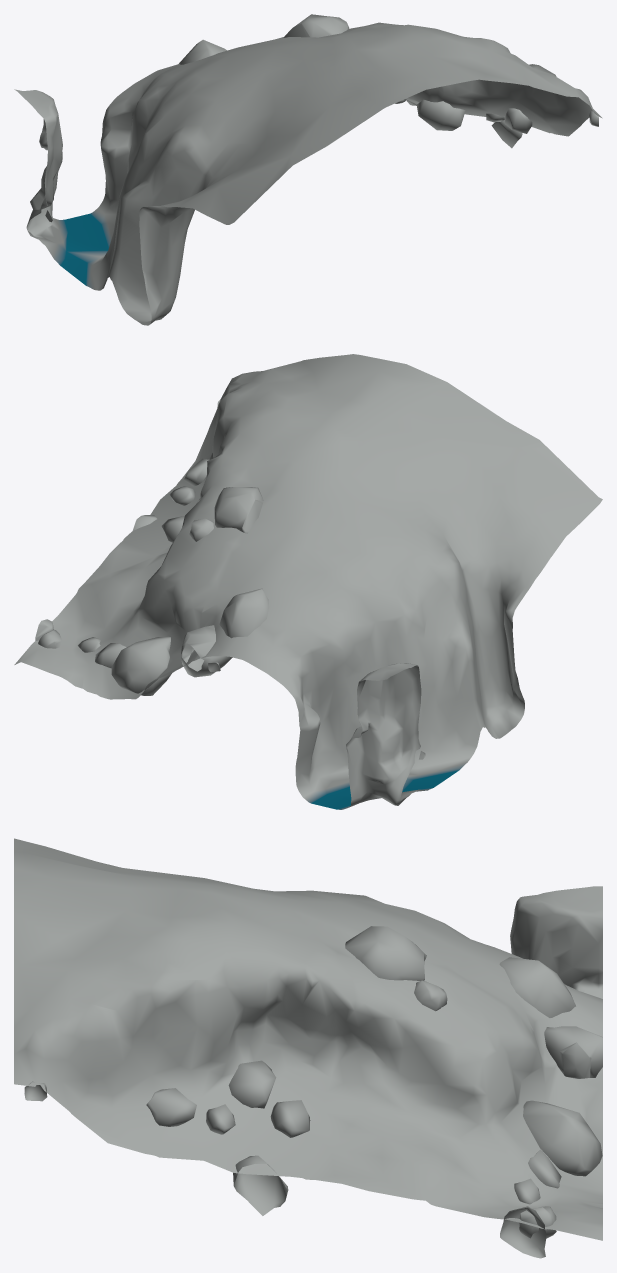
3 renders of one model, top to bottom at view 1: azimuth 30°, elevation 25°; view 2: azimuth 150°, elevation 25°; view 3: azimuth 270°, elevation 25°, orthographic. The views are drawn at different scales.
Visible parts, largest first — view 1: G:\FFXIV-MapTools\exports\s1f3\bg\ffxiv\sea_s1\fld\s1f3\bgpl (×12); view 2: G:\FFXIV-MapTools\exports\s1f3\bg\ffxiv\sea_s1\fld\s1f3\bgpl (×13); view 3: G:\FFXIV-MapTools\exports\s1f3\bg\ffxiv\sea_s1\fld\s1f3\bgpl (×12).
Part boxes in pixels (x1,y1,x2,y2): G:\FFXIV-MapTools\exports\s1f3\bg\ffxiv\sea_s1\fld\s1f3\bgpl (×12): (14, 14, 602, 325); G:\FFXIV-MapTools\exports\s1f3\bg\ffxiv\sea_s1\fld\s1f3\bgpl (×13): (14, 354, 602, 809); G:\FFXIV-MapTools\exports\s1f3\bg\ffxiv\sea_s1\fld\s1f3\bgpl (×12): (14, 838, 602, 1258).
Bounding box in the file's own units: 128 × 82.94 × 128.
